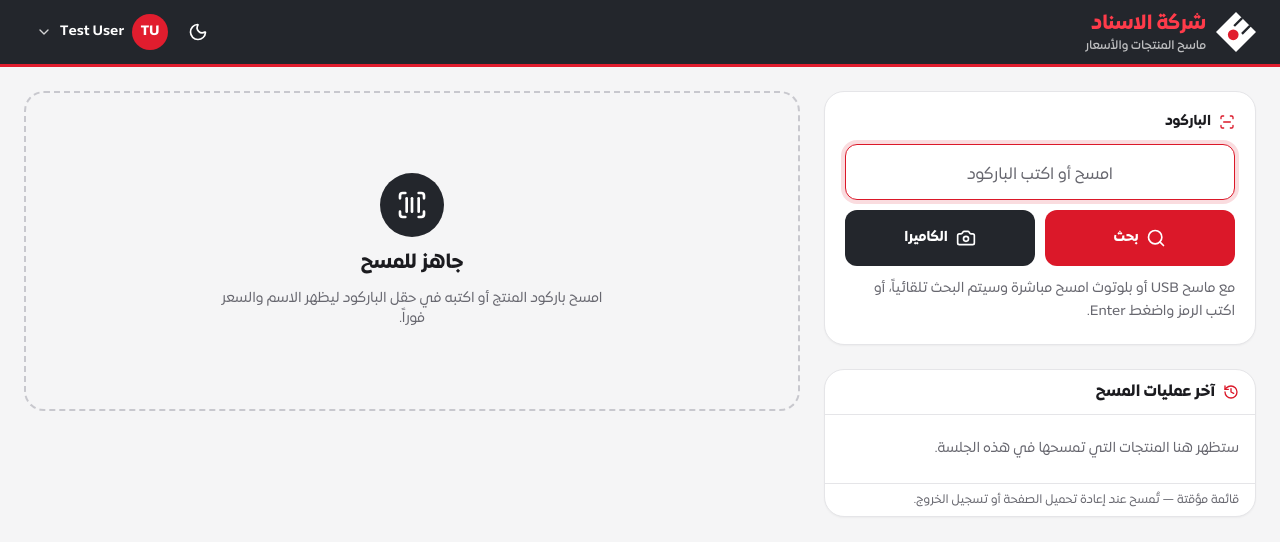
Scenario: ScannerPage › shows ERPNext outages without crashing
Type "42" into the field labelled "الباركود" at coordinates (1040, 172), box [845,144,1235,200]
Then press Enter
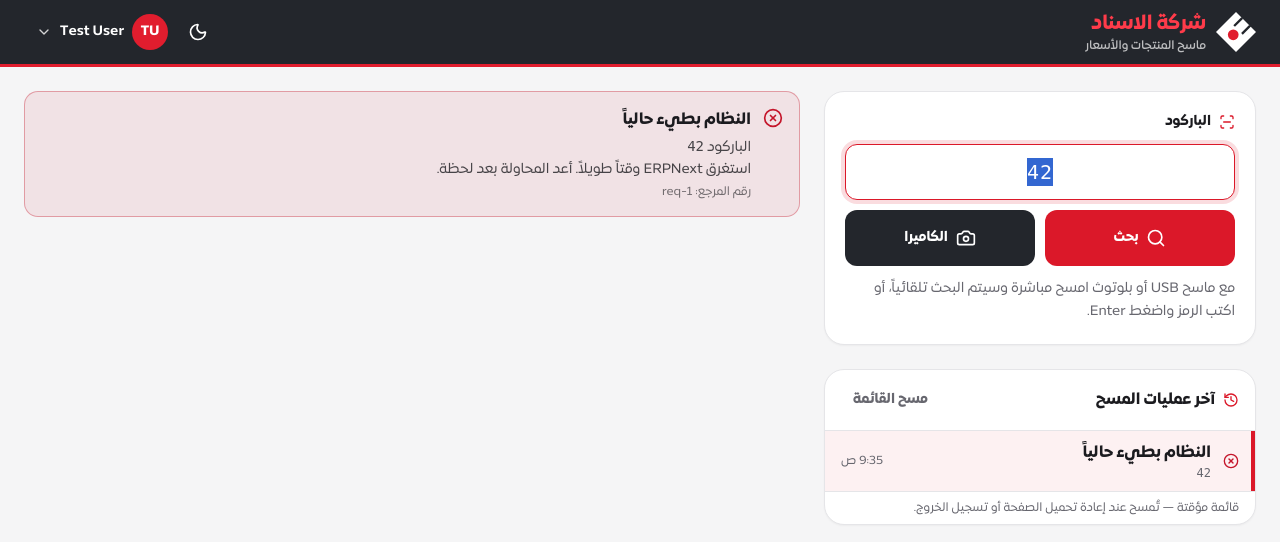
Now the 1st text "النظام بطيء حالياً" is shown, box [622,109,752,130]
Now the text "req-1" is shown, box [662,185,692,199]
